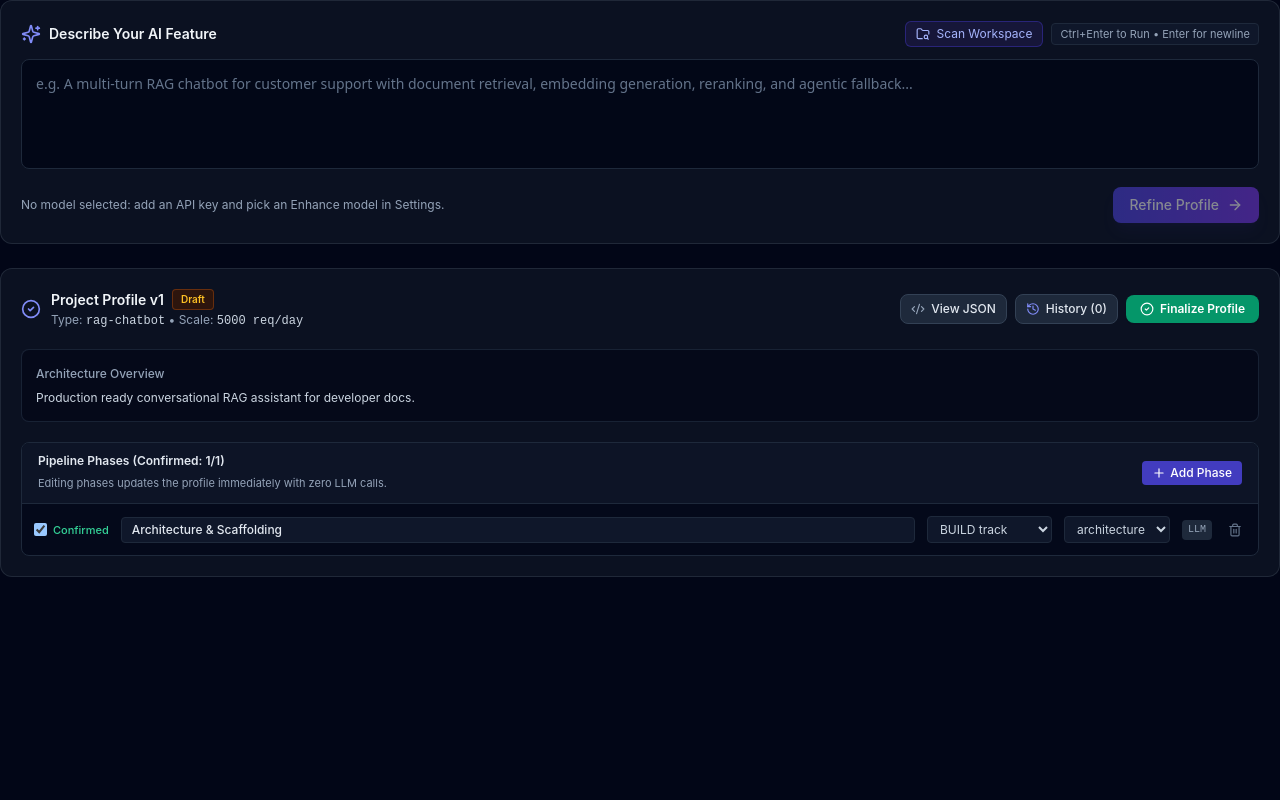
it: Enhance View Component (T063, T133, FR-009, FR-012, FR-015, Principle IX) › shows empty state when no history summaries are present
Click the button "History (0)".
click(1066, 309)  # box [1015,294,1118,324]
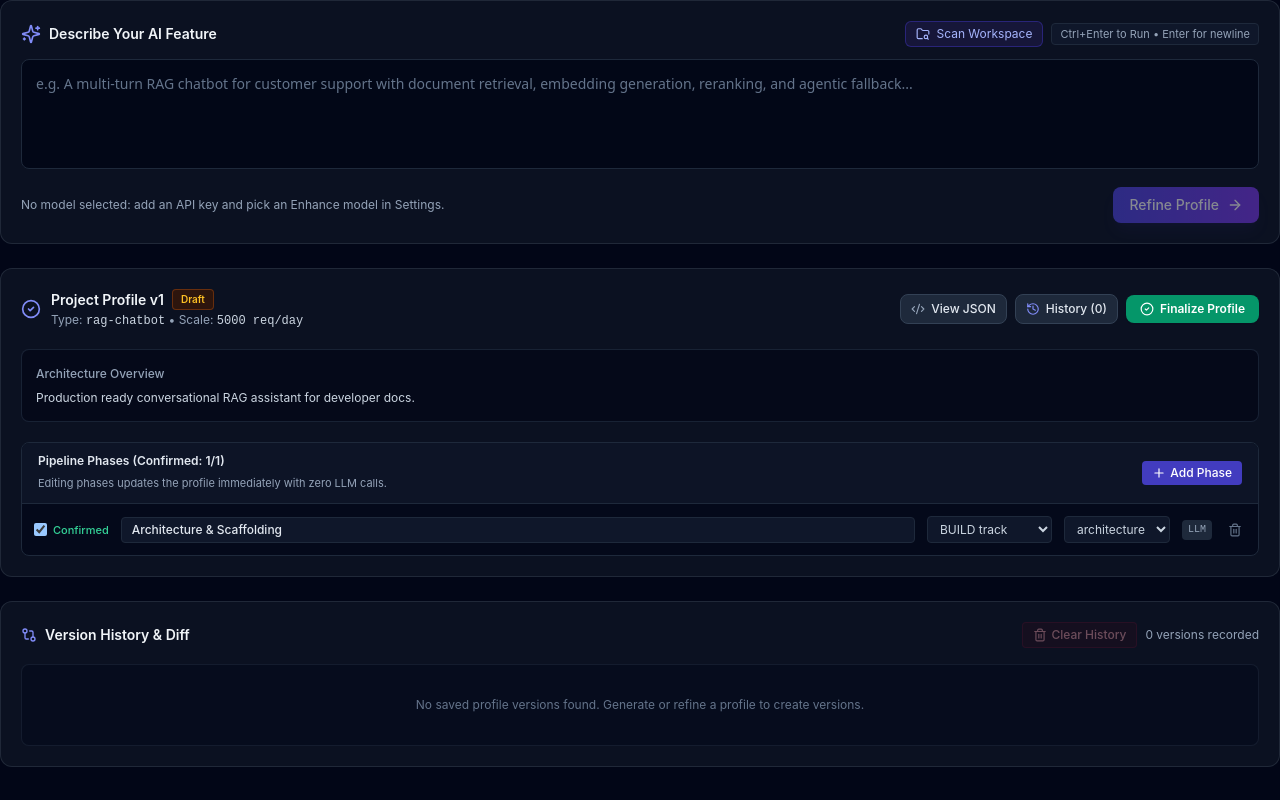
Now the text "No saved profile versions found" is shown, box [416,697,864,712]
